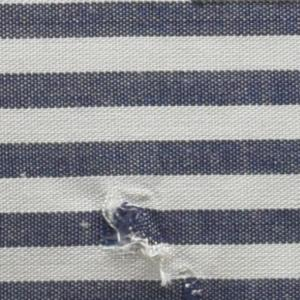Damage: (79, 178, 209, 300)
Stain: (187, 1, 300, 14)
